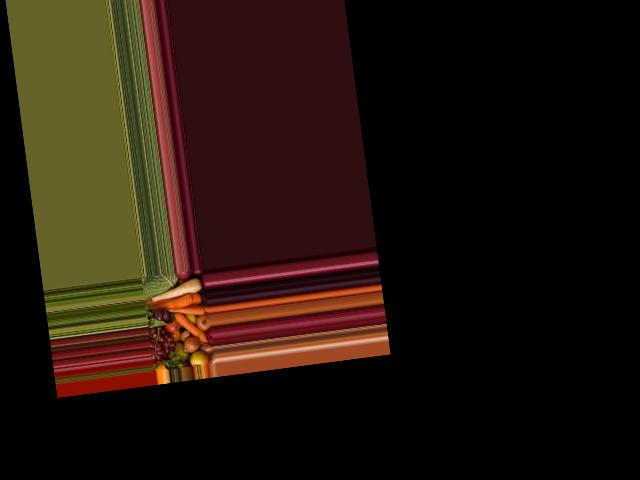carrot: (150, 296, 195, 310)
